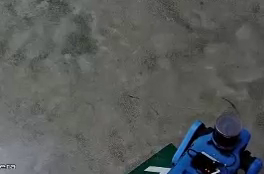robot dog: (164, 113, 263, 174)
